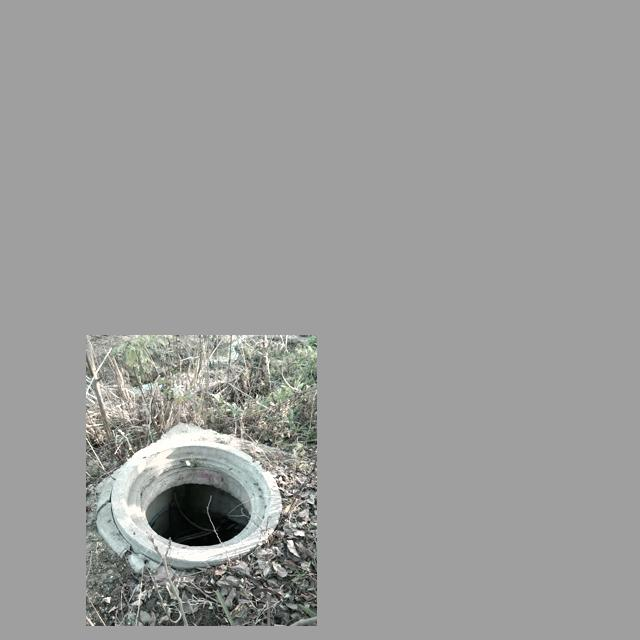lose: (111, 439, 282, 570)
